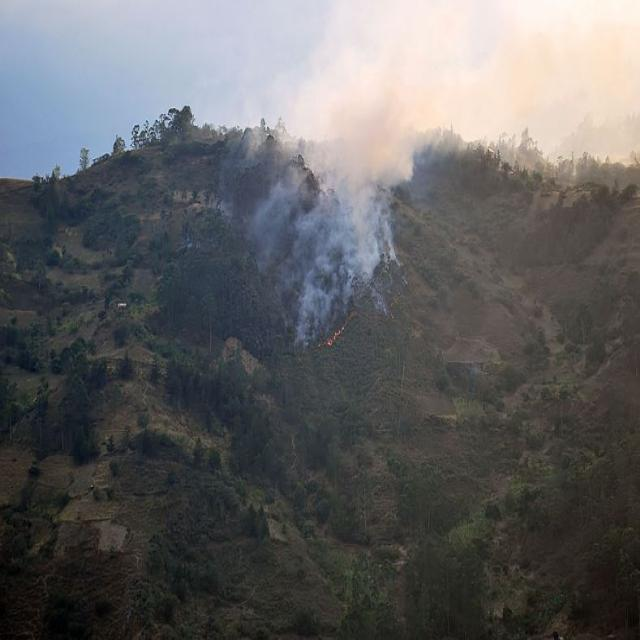Fire: (318, 313, 356, 348)
Smoke: (288, 62, 422, 184), (550, 108, 640, 192), (280, 182, 370, 260), (292, 274, 332, 355), (380, 198, 412, 282), (245, 195, 273, 276), (244, 117, 274, 164), (339, 264, 357, 318), (368, 280, 391, 313)
